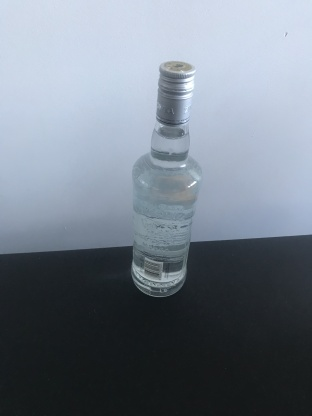nakretka: (154, 59, 197, 128)
